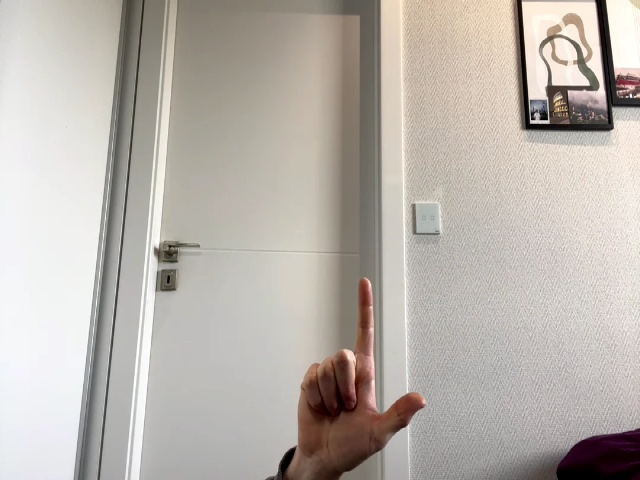L: (298, 277, 427, 474)
